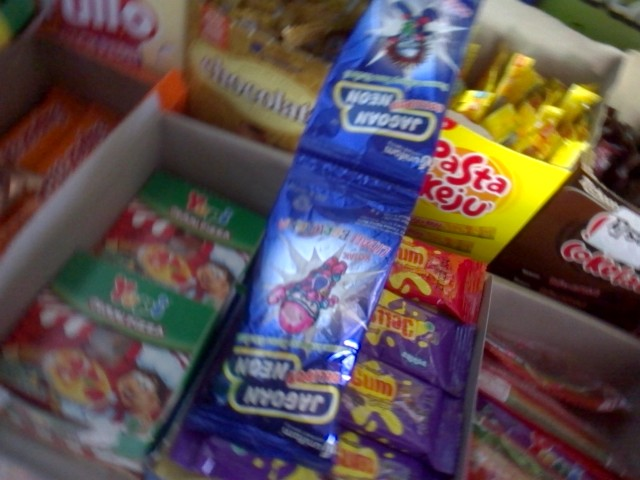jagoan neon: (188, 159, 414, 471), (297, 1, 484, 197)
